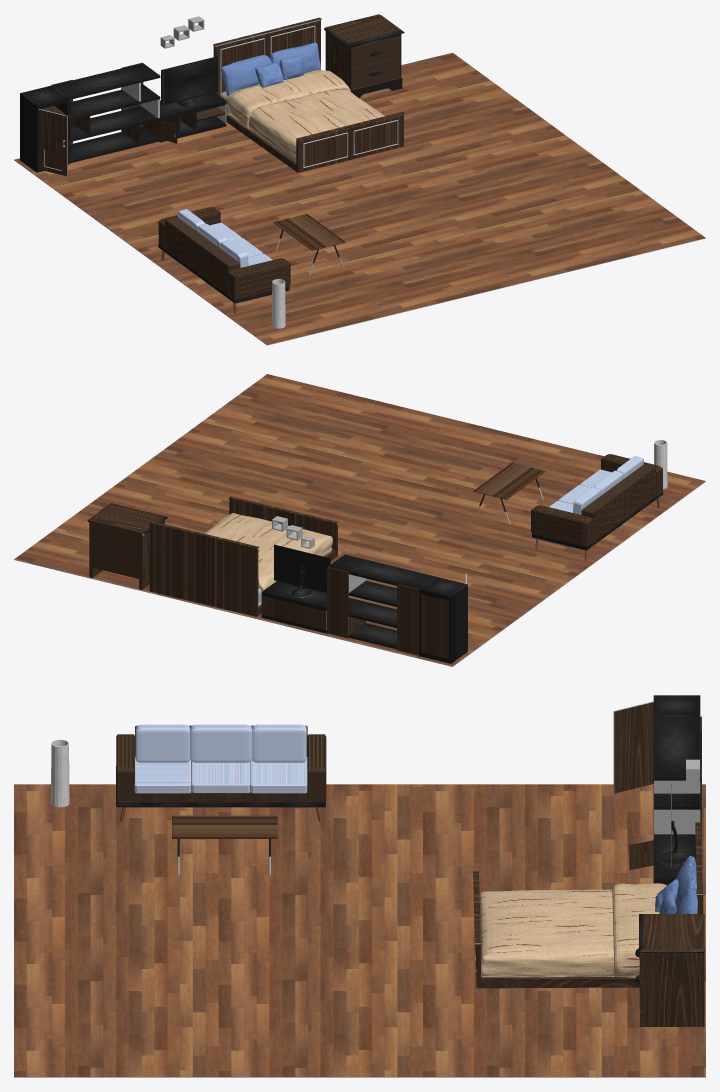
Rendered from T2 Set 2.glb.
3 views of the same model, one above another, from view 1: azimuth 30°, elevation 25°; view 2: azimuth 150°, elevation 25°; view 3: azimuth 270°, elevation 25° (orthographic). The views are drawn at different scales.
Bounding box in the file's own units: 0.3828 × 0.0846 × 0.3827.
Materials: 9 (8 with a texture image).
